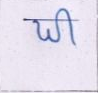i_matra: (59, 8, 77, 46)
